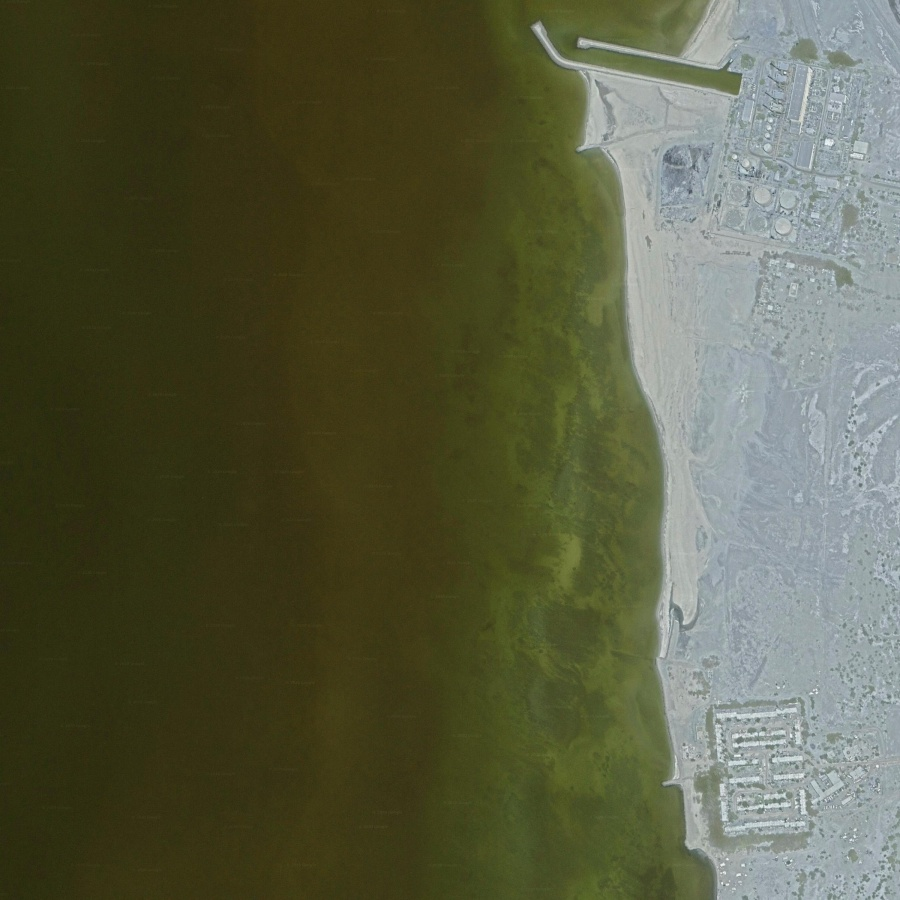PowerPlant: (649, 50, 877, 253)
